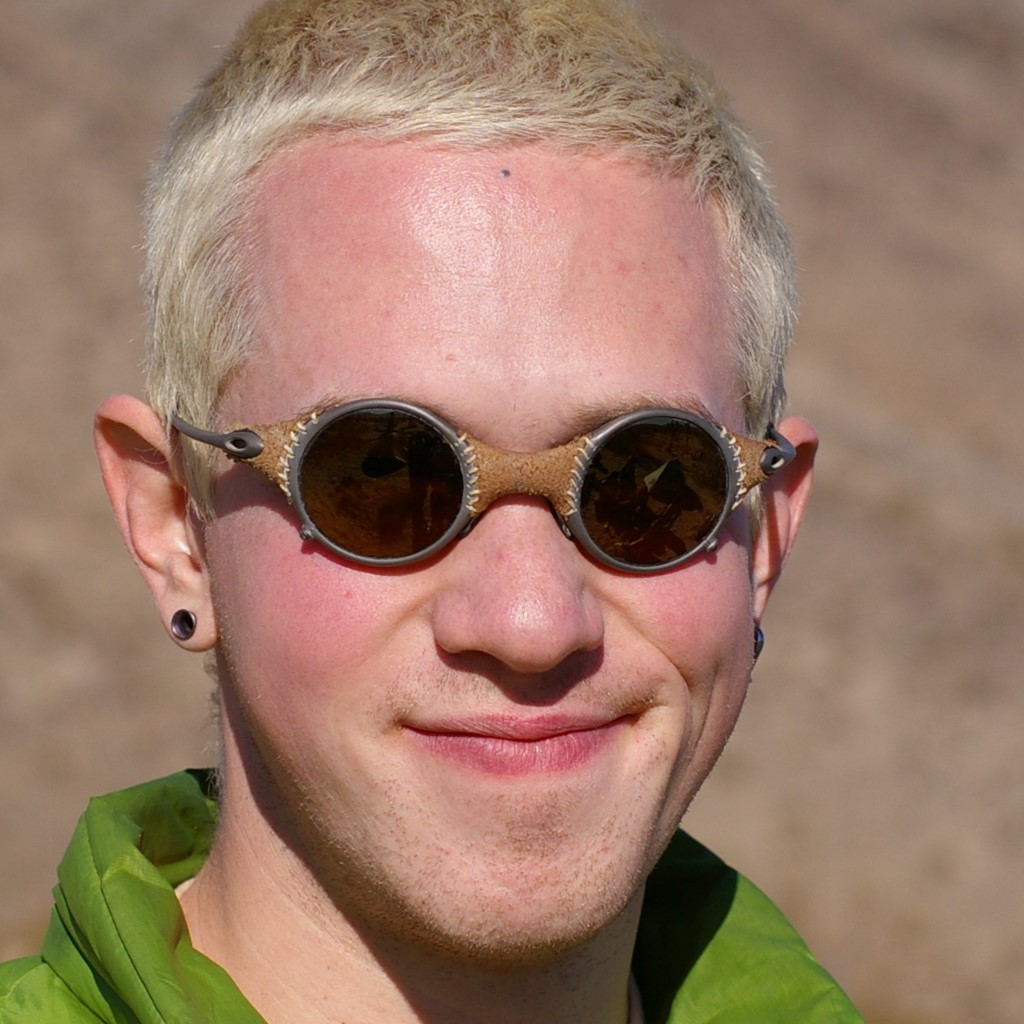sin_mascara: (151, 71, 828, 1002)
